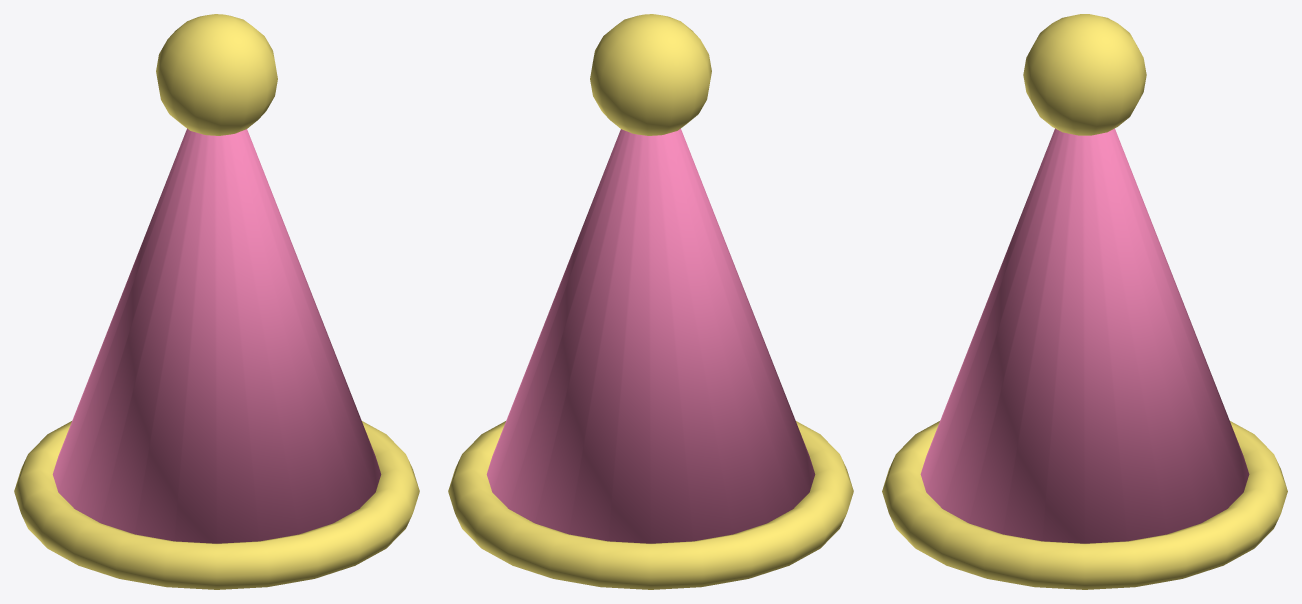
Rendered from costume_party_hat.glb.
The picture shows the model from 3 angles, left to right: view 1: azimuth 30°, elevation 25°; view 2: azimuth 150°, elevation 25°; view 3: azimuth 270°, elevation 25°; orthographic projection.
Parts seen in each view (by area): view 1: costume_party_hat_cone, costume_party_hat_trim, costume_party_hat_pom; view 2: costume_party_hat_cone, costume_party_hat_trim, costume_party_hat_pom; view 3: costume_party_hat_cone, costume_party_hat_trim, costume_party_hat_pom.
Boxes of the visible parts, x1,y1,x2,y2 form: costume_party_hat_cone: (52,128,381,543); costume_party_hat_trim: (14,421,419,589); costume_party_hat_pom: (156,14,277,135); costume_party_hat_cone: (486,128,815,543); costume_party_hat_trim: (448,421,853,589); costume_party_hat_pom: (590,14,711,135); costume_party_hat_cone: (920,128,1249,543); costume_party_hat_trim: (882,421,1287,589); costume_party_hat_pom: (1023,14,1146,135).
Bounding box in the file's own units: 0.0296 × 0.0398 × 0.0296.
